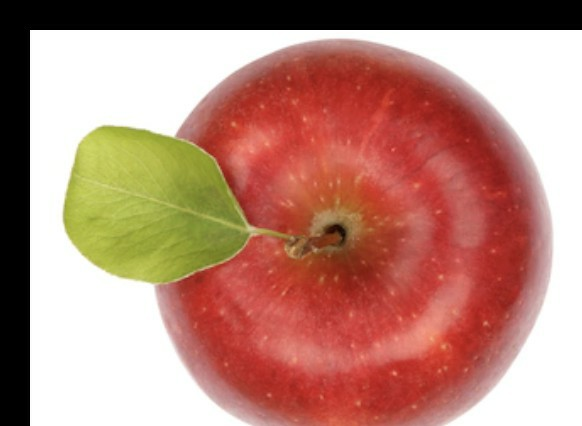fresh_apple: (147, 39, 554, 426)
